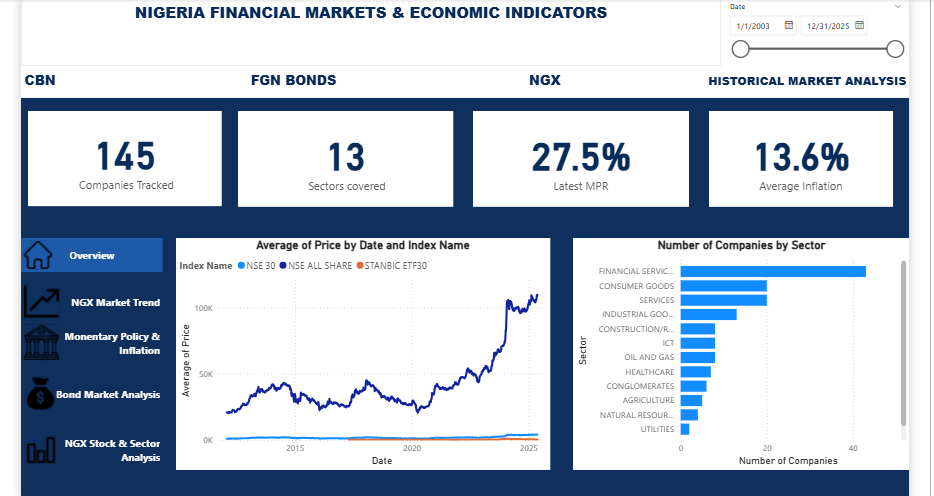

What the dashboard file says about the page in this screenshot:
{"tool":"powerbi","page":{"name":"Executive Overview Page","canvas":[1280,720],"ordinal":0},"visuals":[{"type":"textbox","box":[0,0,1008,96.5],"z":0},{"type":"textbox","box":[0,96.5,1280.2,46.1],"z":1000},{"type":"card","title":"CBN","fields":{"Values":["Fact_NGXStocks.Number of Companies"]},"box":[10.1,161.3,279.4,136.8],"z":2000},{"type":"card","fields":{"Values":["Fact_NGXStocks.Number of Sectors"]},"box":[312.5,161.3,309.6,138.2],"z":3000},{"type":"card","fields":{"Values":["Fact_MoneyMarket.Latest MPR"]},"box":[650.9,161.3,311,138.2],"z":4000},{"type":"card","fields":{"Values":["Fact_Inflation.Average Inflation"]},"box":[990.7,161.3,265,138.2],"z":5000},{"type":"lineChart","fields":{"Category":["Fact_NGXIndices.Date"],"Y":["Avg(Fact_NGXIndices.Price)"],"Series":["Fact_NGXIndices.Index Name"]},"box":[223.2,344.2,538.6,334.1],"z":6000},{"type":"clusteredBarChart","fields":{"Category":["Fact_NGXStocks.Sector"],"Y":["Fact_NGXStocks.Number of Companies"]},"box":[794.9,344.2,485.3,334.1],"z":7000},{"type":"slicer","fields":{"Values":["Dim_Date.Date"]},"box":[1008,0,272.2,96.5],"z":8000},{"type":"actionButton","box":[0,344.2,204.5,49],"z":9000},{"type":"actionButton","box":[0,406.1,204.5,59],"z":10000},{"type":"actionButton","box":[0,465.1,204.5,59],"z":11000},{"type":"actionButton","box":[0,540,204.5,56.2],"z":12000},{"type":"actionButton","box":[0,620.6,204.5,57.6],"z":13000}]}

Visuals, with their boxes on the page's 1280x720 design canvas (x1, y1, x2, y2). These are canvas units, not pixel positions in the 934x496 screenshot, which may show the page scaled, cropped or inside an application window:
textbox: (x1=0, y1=0, x2=1008, y2=96)
textbox: (x1=0, y1=96, x2=1280, y2=143)
"CBN" card: (x1=10, y1=161, x2=290, y2=298)
card - Fact_NGXStocks.Number of Sectors: (x1=312, y1=161, x2=622, y2=300)
card - Fact_MoneyMarket.Latest MPR: (x1=651, y1=161, x2=962, y2=300)
card - Fact_Inflation.Average Inflation: (x1=991, y1=161, x2=1256, y2=300)
lineChart - Fact_NGXIndices.Date x Avg(Fact_NGXIndices.Price): (x1=223, y1=344, x2=762, y2=678)
clusteredBarChart - Fact_NGXStocks.Sector x Fact_NGXStocks.Number of Companies: (x1=795, y1=344, x2=1280, y2=678)
slicer - Dim_Date.Date: (x1=1008, y1=0, x2=1280, y2=96)
actionButton: (x1=0, y1=344, x2=204, y2=393)
actionButton: (x1=0, y1=406, x2=204, y2=465)
actionButton: (x1=0, y1=465, x2=204, y2=524)
actionButton: (x1=0, y1=540, x2=204, y2=596)
actionButton: (x1=0, y1=621, x2=204, y2=678)
